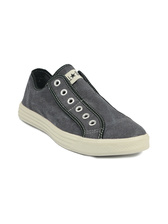shoes: (14, 56, 153, 157)
